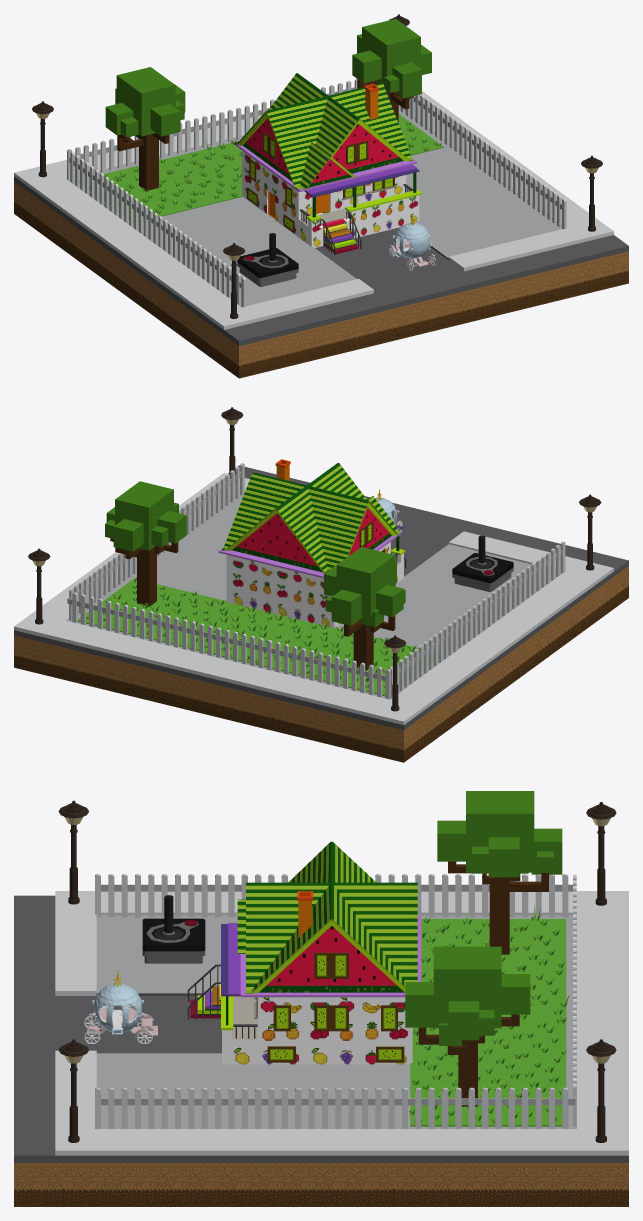
The picture shows the model from 3 angles, top to bottom: view 1: azimuth 30°, elevation 25°; view 2: azimuth 150°, elevation 25°; view 3: azimuth 270°, elevation 25°; orthographic projection. The views are drawn at different scales.
Visible parts, largest first — view 1: Cube.004, Cube.1063, OBJRANDOM_JOYSTICK, VEHICLES_FANTASY_CARRIAGE; view 2: Cube.004, Cube.1063, OBJRANDOM_JOYSTICK; view 3: Cube.004, Cube.1063, OBJRANDOM_JOYSTICK, VEHICLES_FANTASY_CARRIAGE.
Boxes of the visible parts, bbox=[...] form: Cube.004: bbox=[14, 14, 628, 378]; Cube.1063: bbox=[233, 73, 422, 255]; OBJRANDOM_JOYSTICK: bbox=[237, 233, 298, 286]; VEHICLES_FANTASY_CARRIAGE: bbox=[389, 214, 435, 271]; Cube.004: bbox=[14, 407, 628, 762]; Cube.1063: bbox=[218, 459, 406, 627]; OBJRANDOM_JOYSTICK: bbox=[452, 535, 513, 591]; Cube.004: bbox=[14, 791, 628, 1206]; Cube.1063: bbox=[187, 841, 421, 1064]; OBJRANDOM_JOYSTICK: bbox=[142, 895, 205, 963]; VEHICLES_FANTASY_CARRIAGE: bbox=[84, 970, 157, 1043].
Size of the model in its own units: 4000 by 1702 by 4000.
28 materials, 5 textured.
